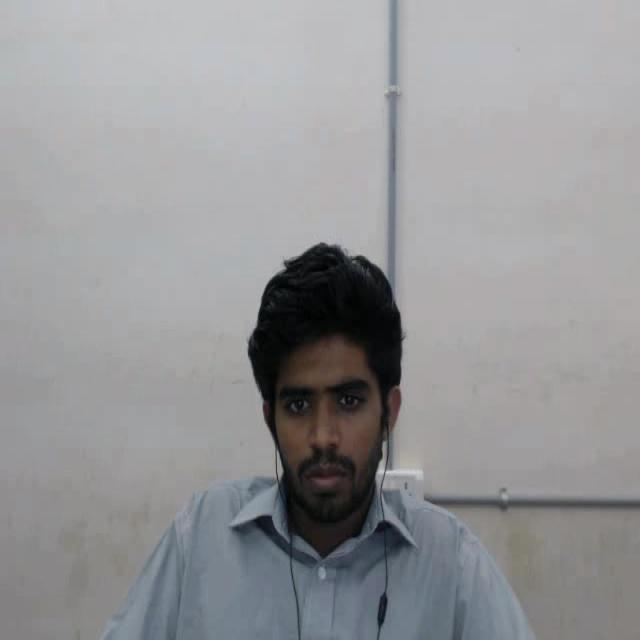Engaged: (226, 174, 470, 604)
